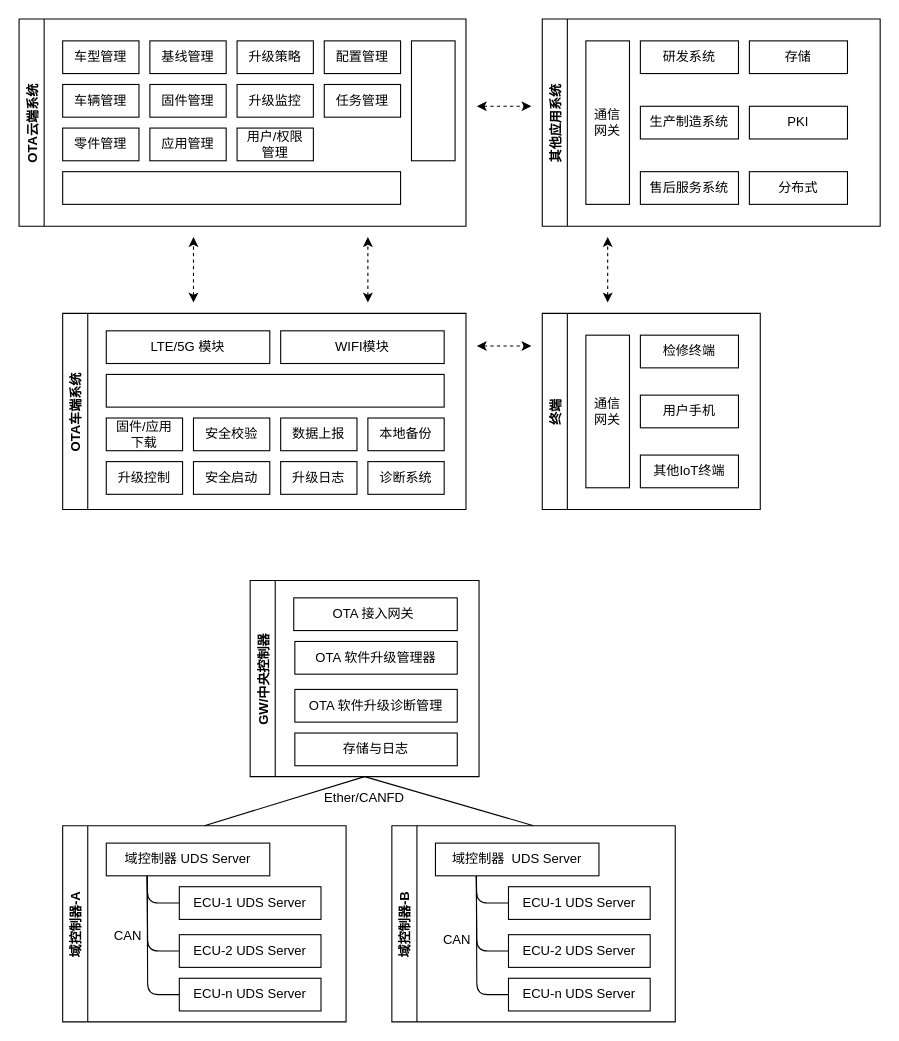
Image size: 899x1041. Some labels were removed from this diagram. The centre of each missing label's shape, as x and y in pixels:
对外 交互 通信 接口: the point at 432,100
接入网关: the point at 274,390
车云通信接口: the point at 231,187
